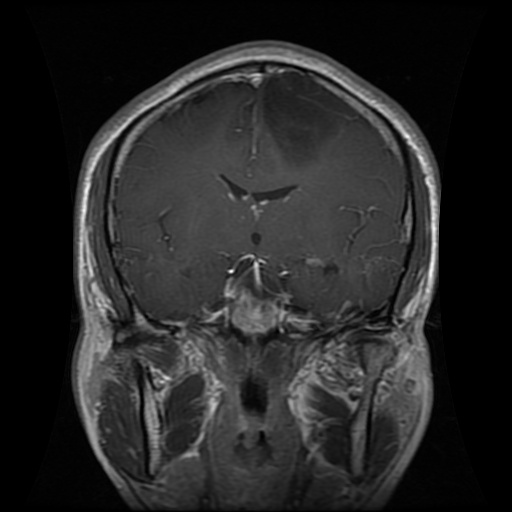glioma: (260, 70, 348, 163)
